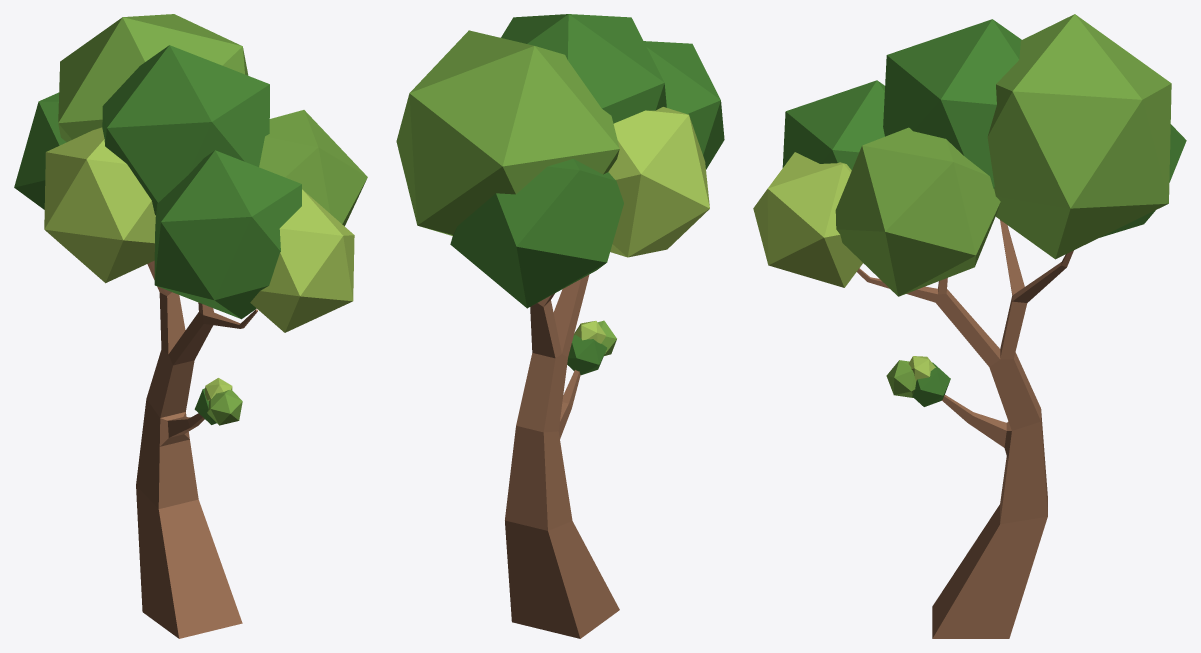
The model's file is OakTree5.fbx.
3 views of the same model, side by side, from view 1: azimuth 30°, elevation 25°; view 2: azimuth 150°, elevation 25°; view 3: azimuth 270°, elevation 25° (orthographic). The views are drawn at different scales.
Parts seen in each view (by area): view 1: Trunk, Leaves.005, Leaves.008, Leaves.012, Leaves.007, Leaves.011, Leaves.010, Leaves.006, Leaves.002; view 2: Leaves.007, Trunk, Leaves.006, Leaves.012, Leaves.008, Leaves.005, Leaves.001, Leaves.003; view 3: Leaves.007, Trunk, Leaves.010, Leaves.008, Leaves.011, Leaves.005, Leaves.001, Leaves.002, Leaves.006.
Boxes of the visible parts, x1=… form: Trunk: x1=136, y1=260, x2=257, y2=638; Leaves.005: x1=154, y1=150, x2=301, y2=319; Leaves.008: x1=102, y1=45, x2=269, y2=215; Leaves.012: x1=44, y1=127, x2=155, y2=283; Leaves.007: x1=58, y1=14, x2=248, y2=142; Leaves.011: x1=250, y1=189, x2=354, y2=332; Leaves.010: x1=259, y1=110, x2=367, y2=226; Leaves.006: x1=14, y1=92, x2=66, y2=209; Leaves.002: x1=207, y1=390, x2=242, y2=425; Leaves.007: x1=396, y1=30, x2=619, y2=235; Trunk: x1=505, y1=275, x2=619, y2=638; Leaves.006: x1=450, y1=159, x2=623, y2=308; Leaves.012: x1=608, y1=107, x2=709, y2=257; Leaves.008: x1=501, y1=14, x2=666, y2=123; Leaves.005: x1=643, y1=41, x2=724, y2=169; Leaves.001: x1=567, y1=335, x2=606, y2=375; Leaves.003: x1=574, y1=321, x2=606, y2=343; Leaves.007: x1=987, y1=14, x2=1171, y2=259; Trunk: x1=857, y1=220, x2=1073, y2=638; Leaves.010: x1=835, y1=127, x2=1000, y2=296; Leaves.008: x1=883, y1=19, x2=1021, y2=188; Leaves.011: x1=753, y1=152, x2=862, y2=287; Leaves.005: x1=782, y1=80, x2=884, y2=170; Leaves.001: x1=912, y1=362, x2=950, y2=406; Leaves.002: x1=886, y1=360, x2=916, y2=397; Leaves.006: x1=1100, y1=124, x2=1186, y2=237.
Bounding box in the file's own units: 955 × 1886 × 1239.
